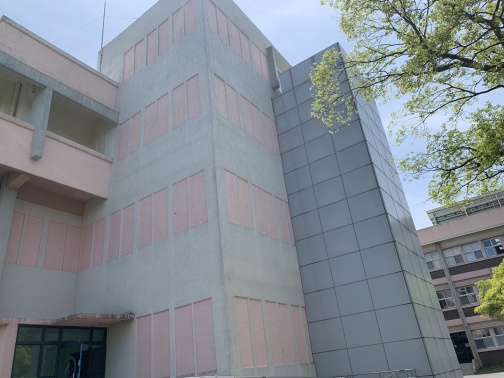College Of Education: (6, 22, 433, 374), (83, 8, 327, 371), (3, 18, 114, 219), (409, 191, 502, 373)
